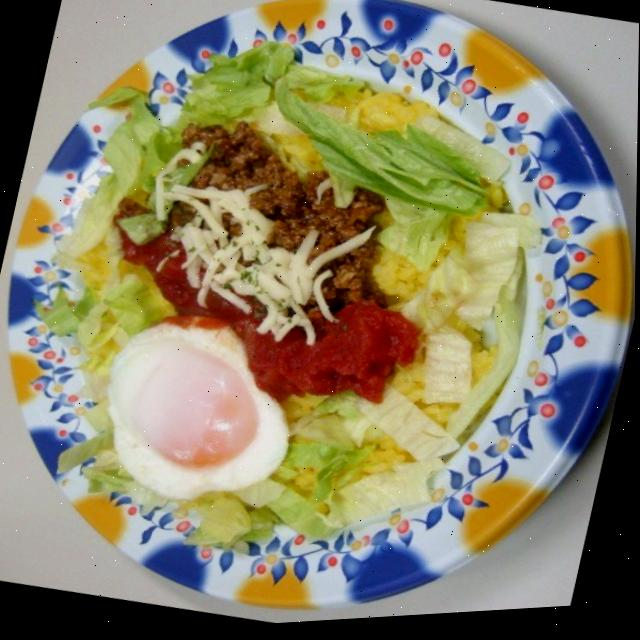鸡蛋料理: (70, 288, 288, 517)
